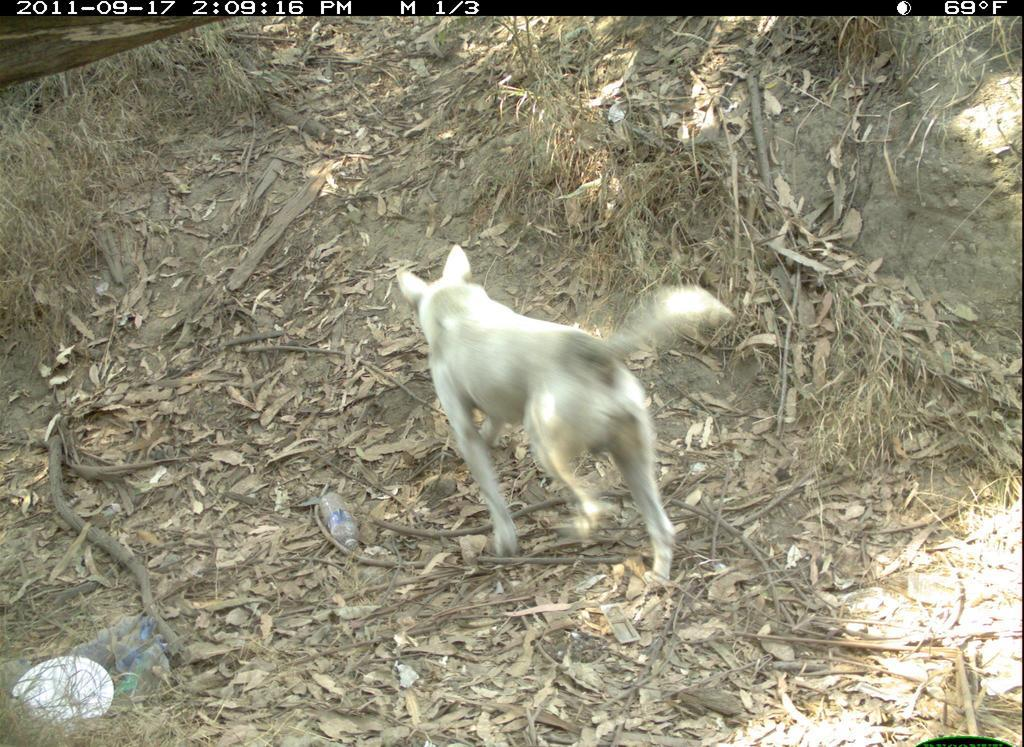dog: (387, 236, 742, 600)
